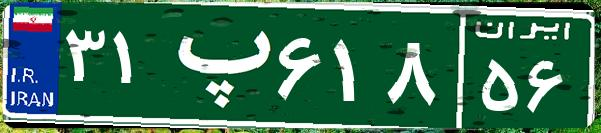1: (330, 28, 385, 110), (110, 28, 158, 105)
3: (57, 26, 110, 107)
5: (475, 38, 525, 113)
6: (273, 28, 330, 110), (525, 38, 570, 115)
8: (385, 28, 445, 110)
پ: (158, 15, 273, 115)
